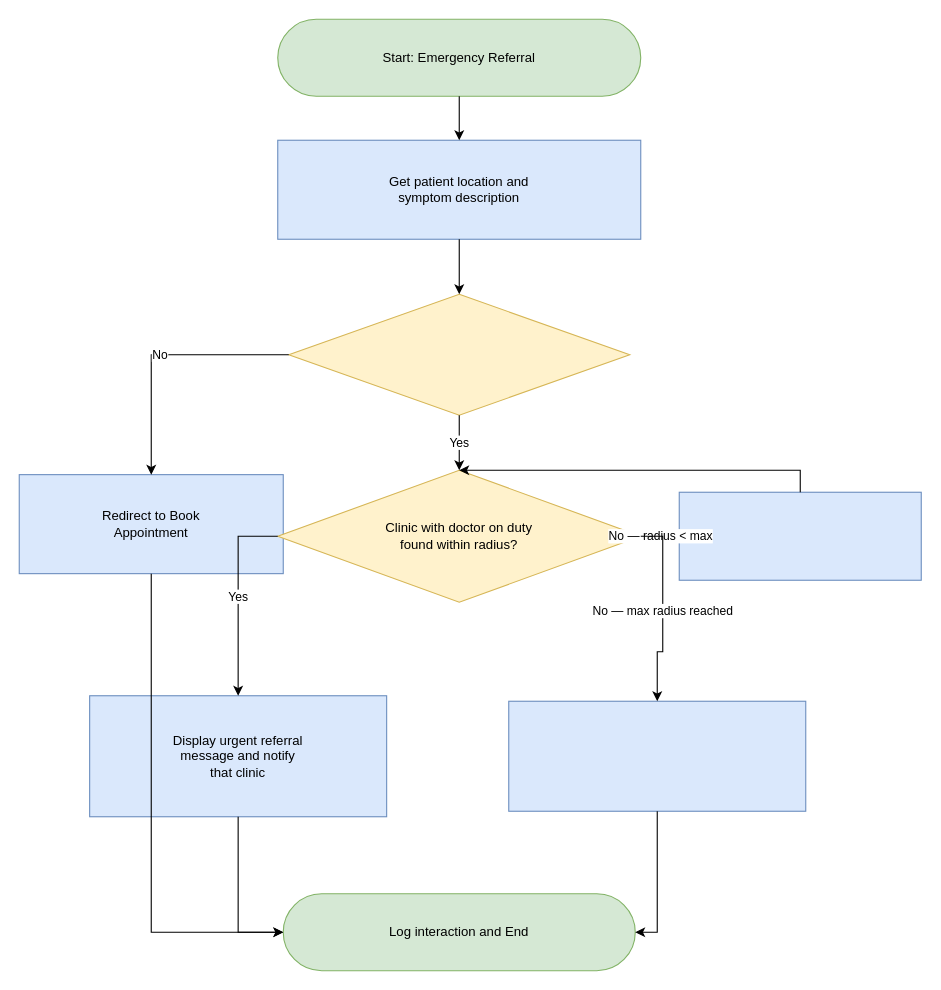
The diagram is 941 pixels wide and 990 high, and some of its shapes have lost their labels. Here are the shapes that lost their labels. From the top down, the centre of each, then its label:
point 459,354: Symptoms match an emergency keyword?
point 799,535: Increase search radius
point 657,755: Display: Contact district hospital hotline
